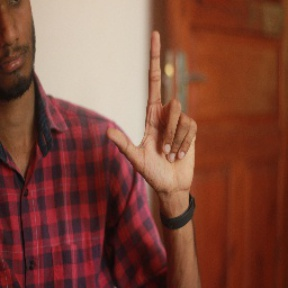L: (107, 30, 200, 191)
